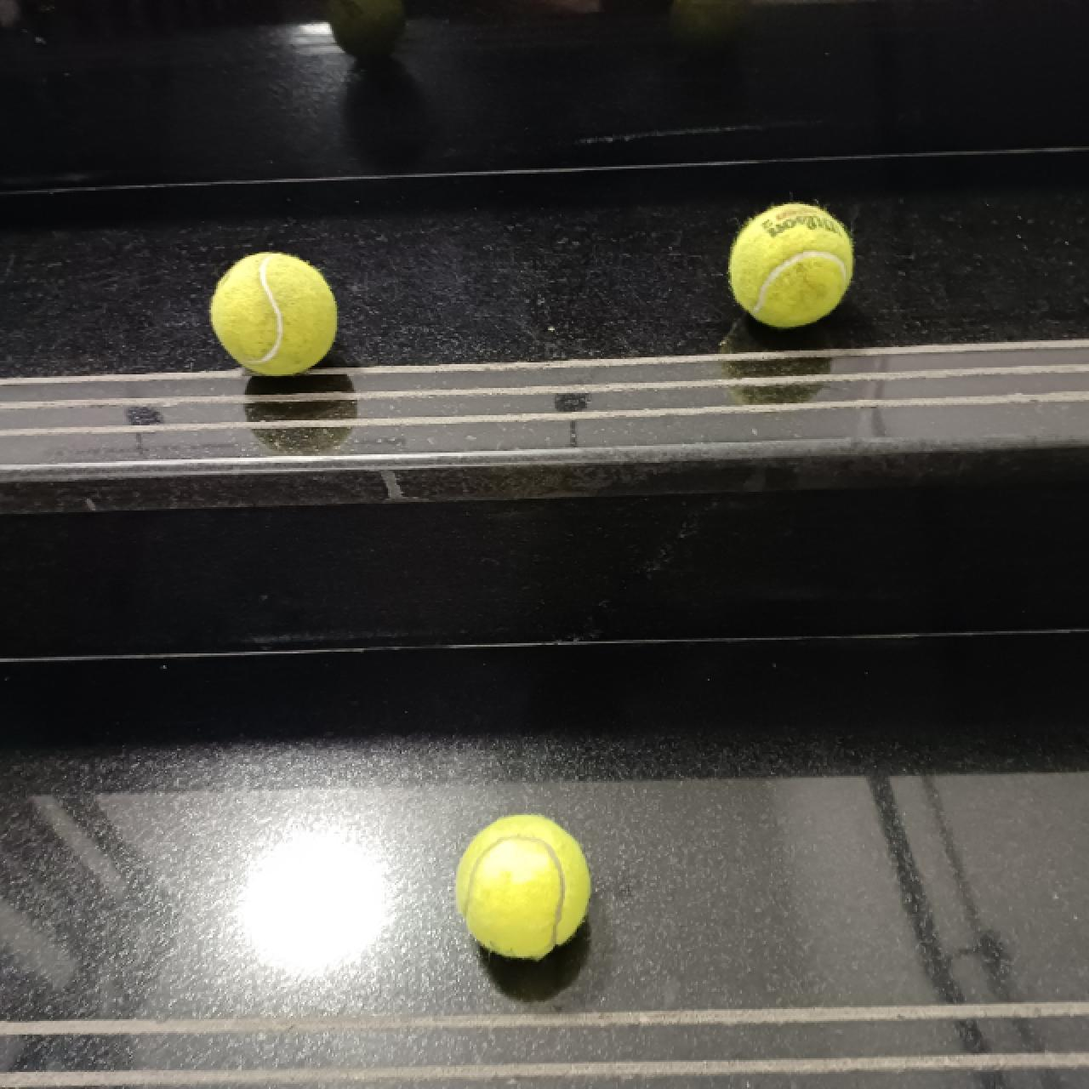tennis-ball: (455, 811, 591, 959), (207, 248, 341, 374), (731, 201, 855, 328)
